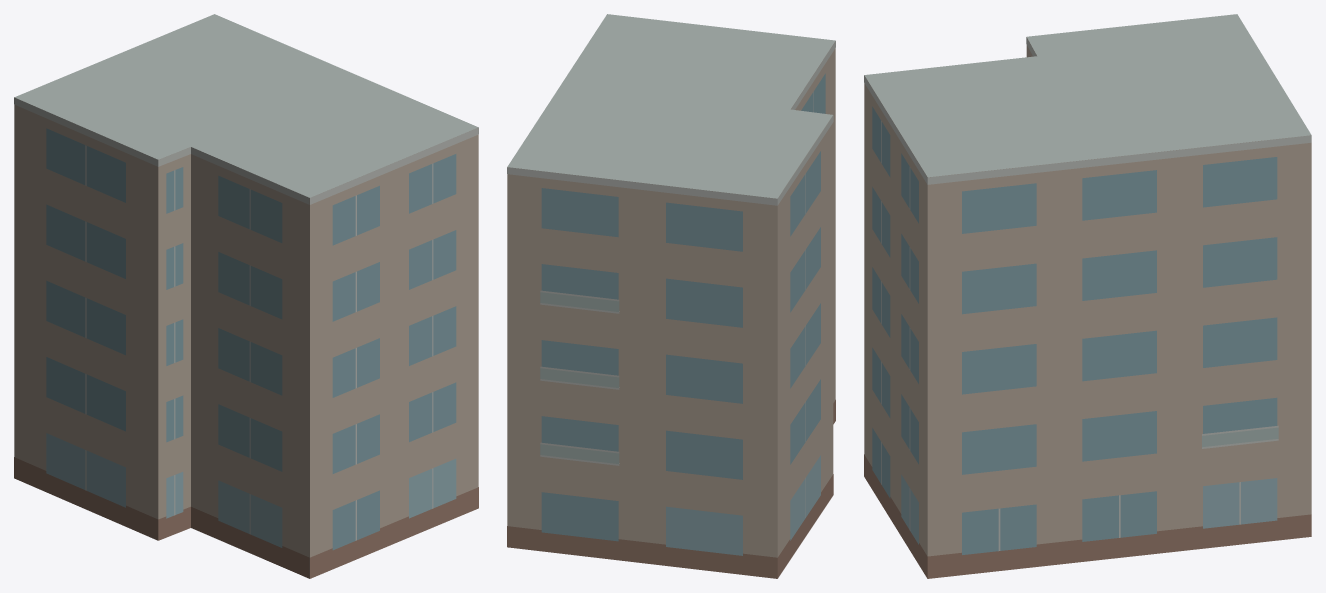
Rendered from survey-upis-32653685.glb.
3 views of the same model, side by side, from view 1: azimuth 30°, elevation 25°; view 2: azimuth 150°, elevation 25°; view 3: azimuth 270°, elevation 25° (orthographic). The views are drawn at different scales.
Visible parts, largest first — view 1: survey-upis-32653685.tmp; view 2: survey-upis-32653685.tmp; view 3: survey-upis-32653685.tmp.
Part boxes in pixels (left/top/right/bottom): survey-upis-32653685.tmp: left=14, top=14, right=478, bottom=578; survey-upis-32653685.tmp: left=507, top=14, right=835, bottom=578; survey-upis-32653685.tmp: left=864, top=14, right=1311, bottom=578.
Bounding box in the file's own units: 11.44 × 13.1 × 13.24.
